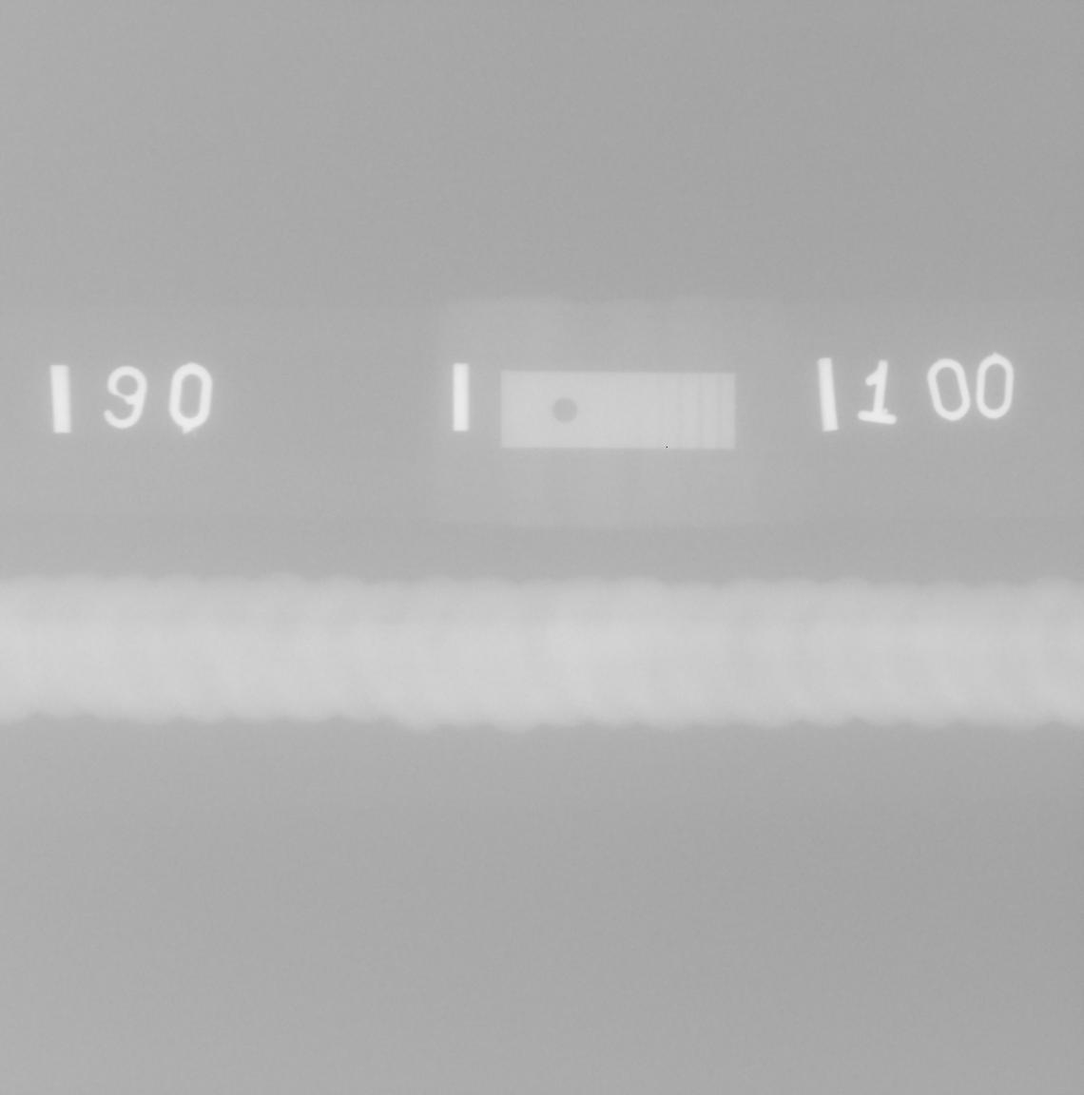Reference Standard 1: (501, 371, 735, 449)
